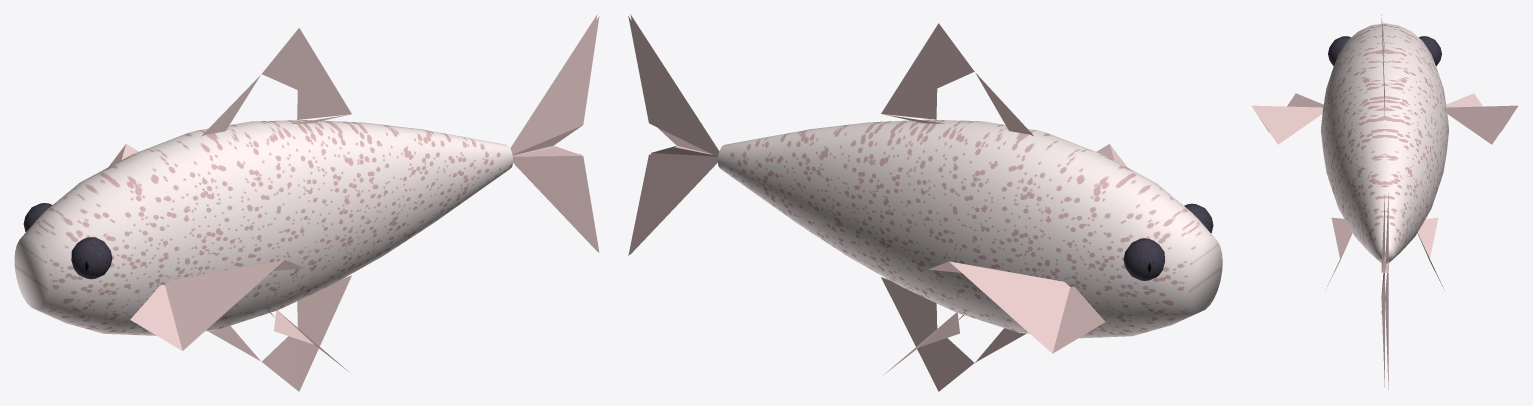
Rendered from zebra-danio-albino.glb.
3 views of the same model, side by side, from view 1: azimuth 30°, elevation 25°; view 2: azimuth 150°, elevation 25°; view 3: azimuth 270°, elevation 25° (orthographic). The views are drawn at different scales.
Parts seen in each view (by area): view 1: zebra_danio; view 2: zebra_danio; view 3: zebra_danio.
Boxes of the visible parts, x1=… form: zebra_danio: x1=14, y1=14, x2=599, y2=391; zebra_danio: x1=628, y1=14, x2=1222, y2=391; zebra_danio: x1=1251, y1=15, x2=1518, y2=389.
Size of the model in its own units: 3.1 by 1.9 by 1.5.
Materials: 1 (1 with a texture image).
